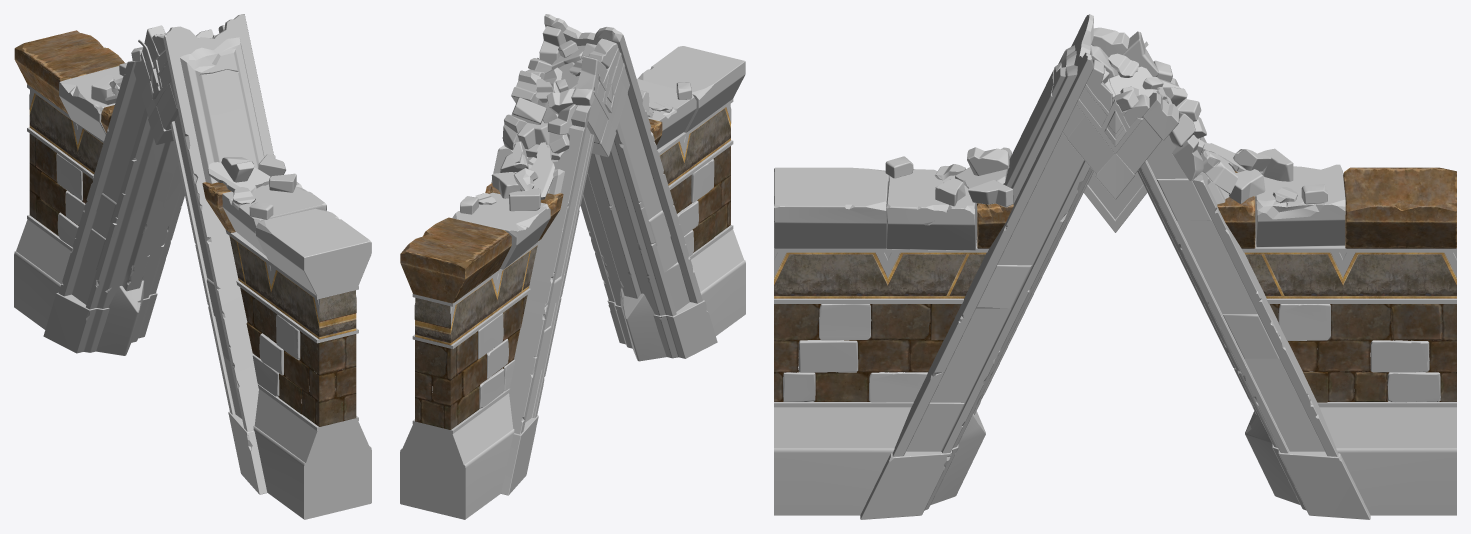
The picture shows the model from 3 angles, left to right: view 1: azimuth 30°, elevation 25°; view 2: azimuth 150°, elevation 25°; view 3: azimuth 270°, elevation 25°; orthographic projection. The views are drawn at different scales.
Visible parts, largest first — view 1: SM_DK_Crumbled_Entrance_01_LOD0; view 2: SM_DK_Crumbled_Entrance_01_LOD0; view 3: SM_DK_Crumbled_Entrance_01_LOD0.
Boxes of the visible parts, x1=… form: SM_DK_Crumbled_Entrance_01_LOD0: x1=14, y1=14, x2=371, y2=519; SM_DK_Crumbled_Entrance_01_LOD0: x1=400, y1=14, x2=745, y2=519; SM_DK_Crumbled_Entrance_01_LOD0: x1=774, y1=14, x2=1456, y2=519.
Bounding box in the file's own units: 3.99 × 18 × 24.
